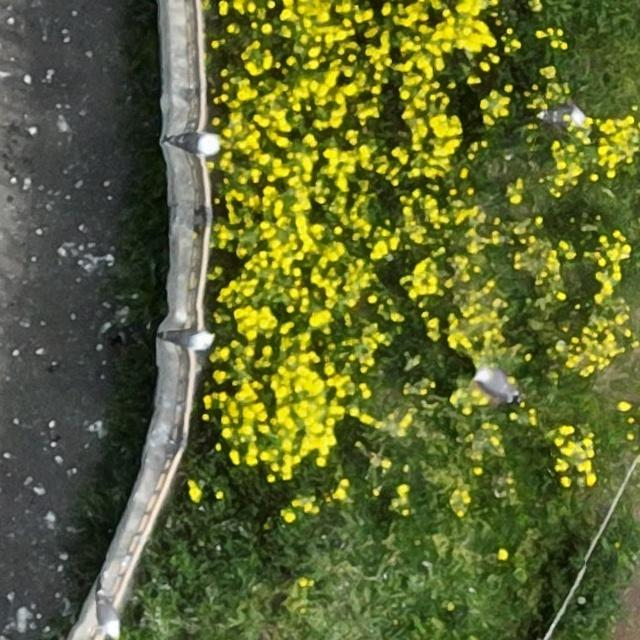umineko: (94, 592, 124, 640), (478, 368, 517, 398), (172, 132, 218, 153), (540, 106, 582, 126), (174, 331, 210, 348)
